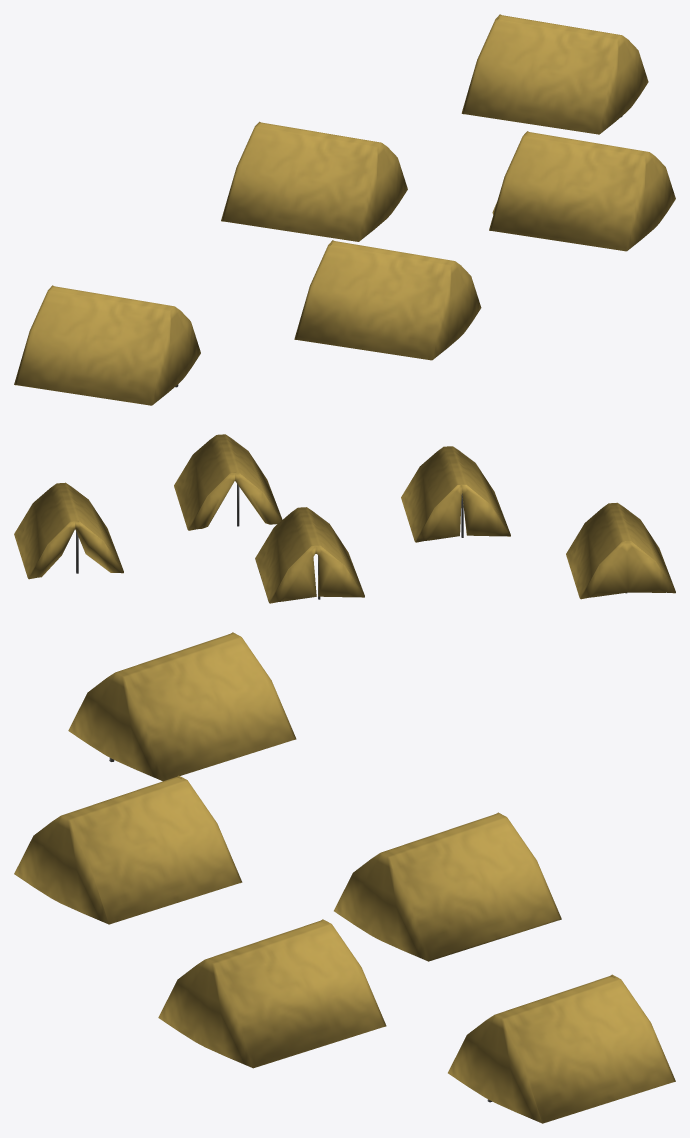
Rendered from Tents_Yellow.obj.
3 renders of one model, top to bottom at view 1: azimuth 30°, elevation 25°; view 2: azimuth 150°, elevation 25°; view 3: azimuth 270°, elevation 25°, orthographic. The views are drawn at different scales.
Parts seen in each view (by area): view 1: Tent_Base.004_Material, Tent_Base.001_Material, Tent_Base.003_Material, Tent_Base_Material, Tent_Base.002_Material; view 2: Tent_Base.004_Material, Tent_Base.002_Material, Tent_Base.003_Material, Tent_Base_Material, Tent_Base.001_Material; view 3: Tent_Base.001_Material, Tent_Base_Material, Tent_Base.003_Material, Tent_Base.002_Material, Tent_Base.004_Material.
Boxes of the visible parts, x1,y1,x2,y2 form: Tent_Base.004_Material: [14, 285, 200, 405]; Tent_Base.001_Material: [489, 131, 675, 251]; Tent_Base.003_Material: [294, 240, 481, 360]; Tent_Base_Material: [461, 14, 648, 134]; Tent_Base.002_Material: [221, 121, 407, 241]; Tent_Base.004_Material: [566, 502, 675, 599]; Tent_Base.002_Material: [255, 507, 364, 603]; Tent_Base.003_Material: [401, 446, 510, 542]; Tent_Base_Material: [14, 482, 123, 579]; Tent_Base.001_Material: [174, 434, 282, 530]; Tent_Base.001_Material: [158, 919, 386, 1068]; Tent_Base_Material: [448, 974, 675, 1123]; Tent_Base.003_Material: [14, 775, 242, 924]; Tent_Base.002_Material: [334, 812, 561, 961]; Tent_Base.004_Material: [68, 632, 296, 781].
Bounding box in the file's own units: 13.56 × 1.26 × 8.67.
